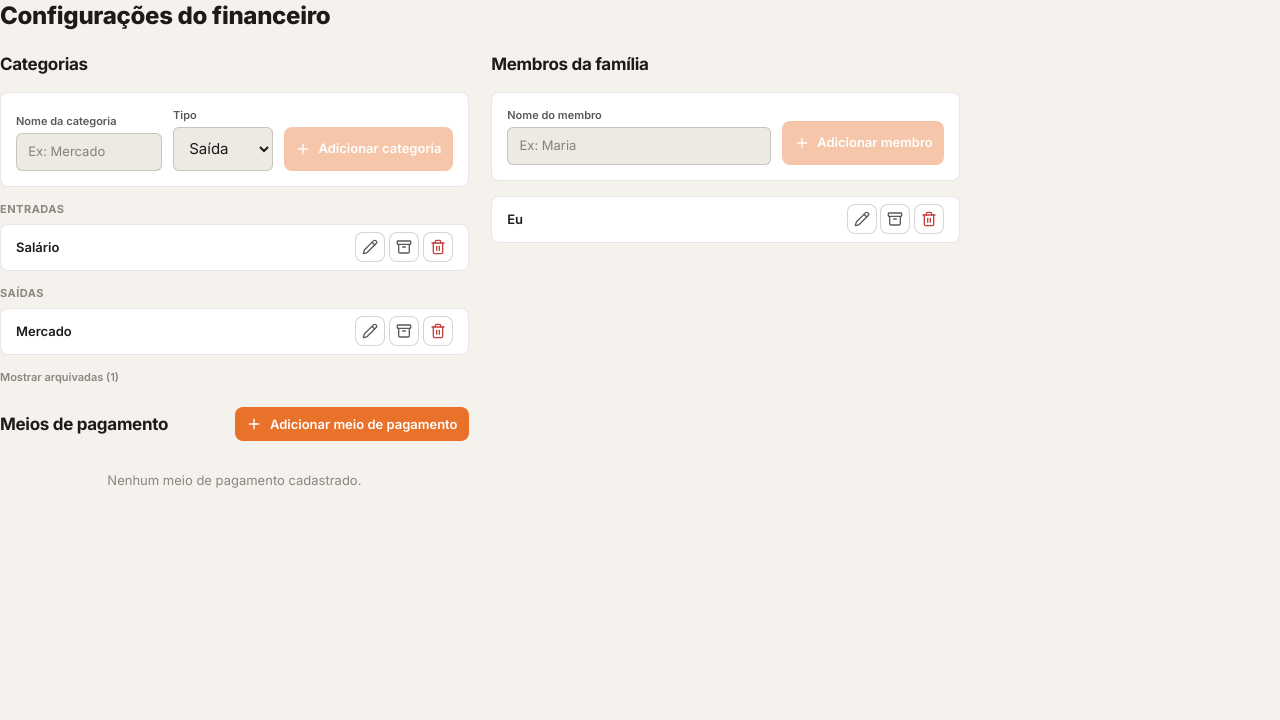
Test: FinanceSettingsPage › renames a member through the modal
Click the button named "Renomear Eu" at (862, 219), box [846, 204, 876, 234]
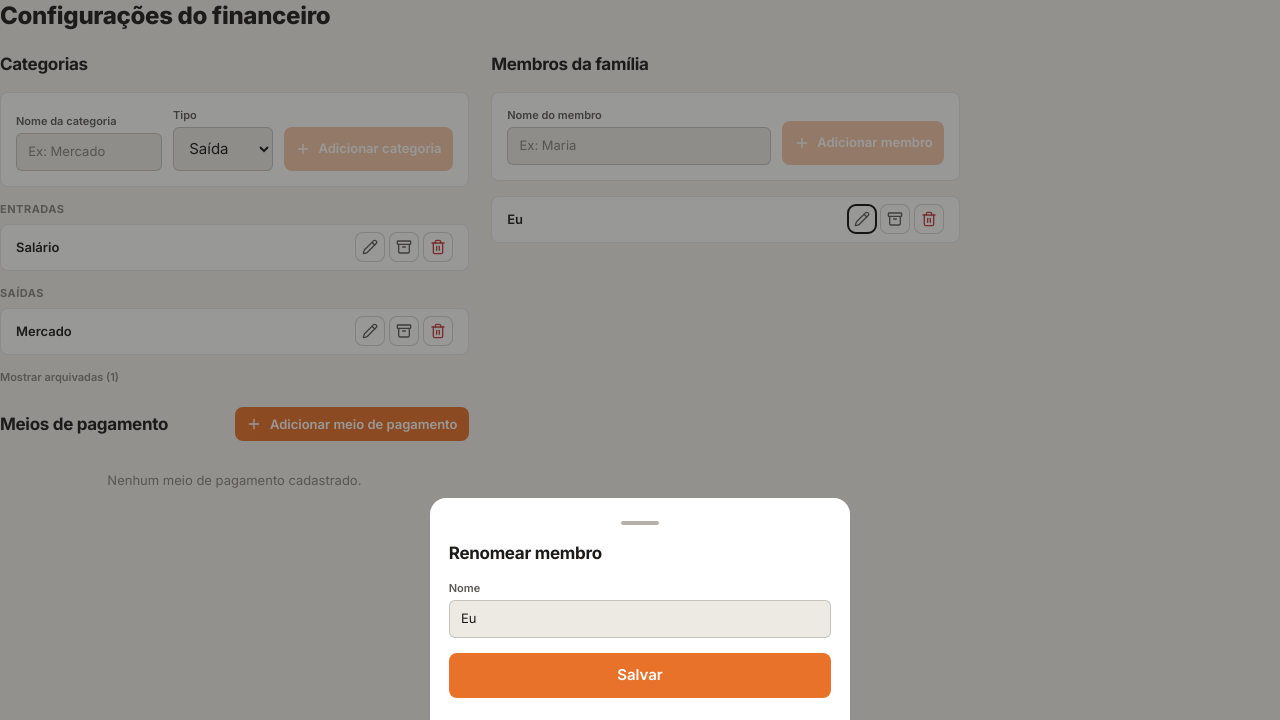
Replace the text in the field labelled "Nome" with "Matheus" at (640, 618), box [449, 600, 831, 638]
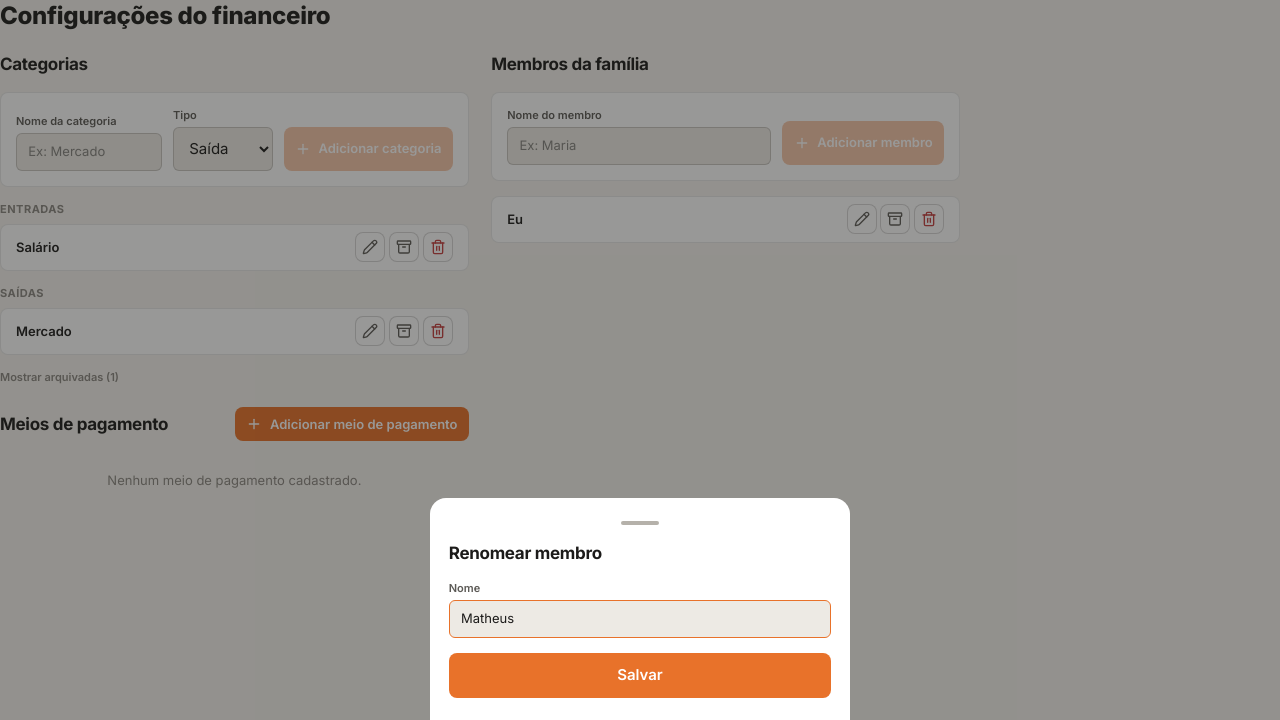
Click the button "Salvar" at (640, 675), box [449, 652, 831, 698]
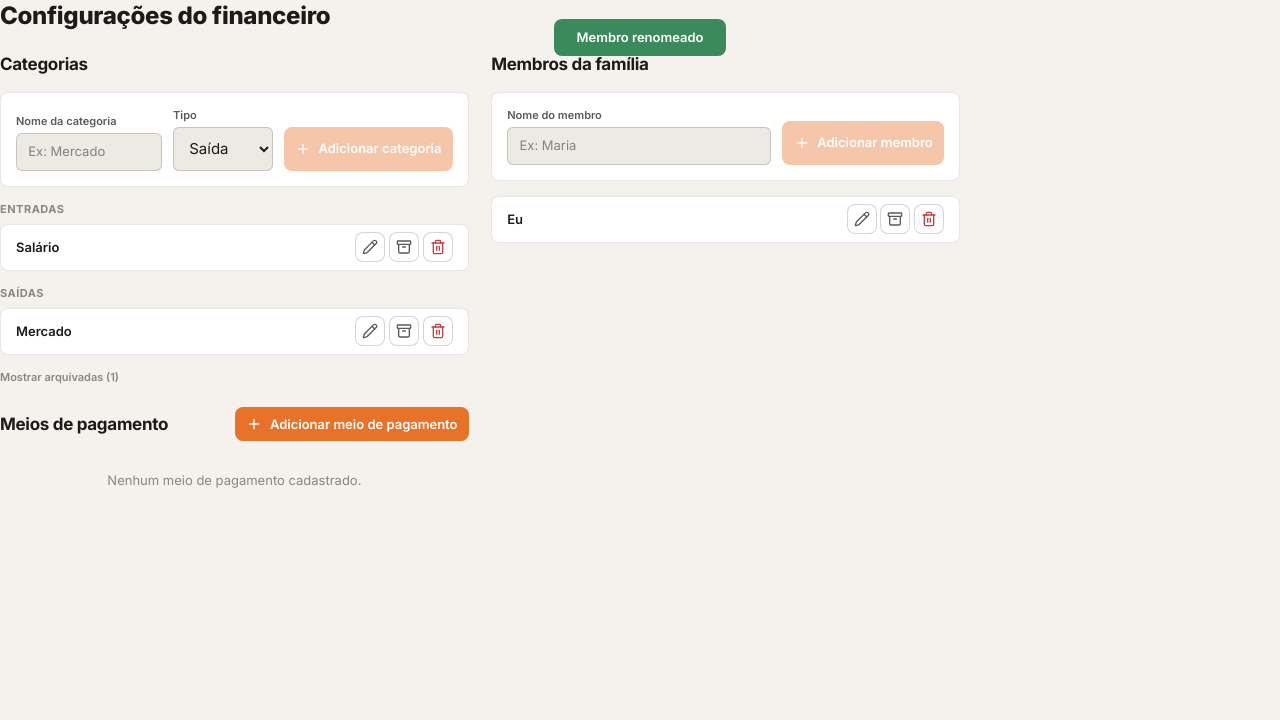
Now the dialog is gone
